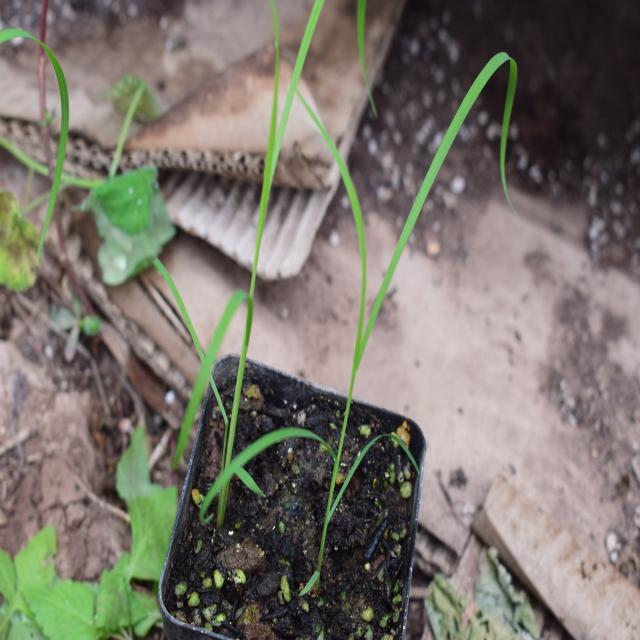barnyard_grass: (163, 11, 436, 482)
